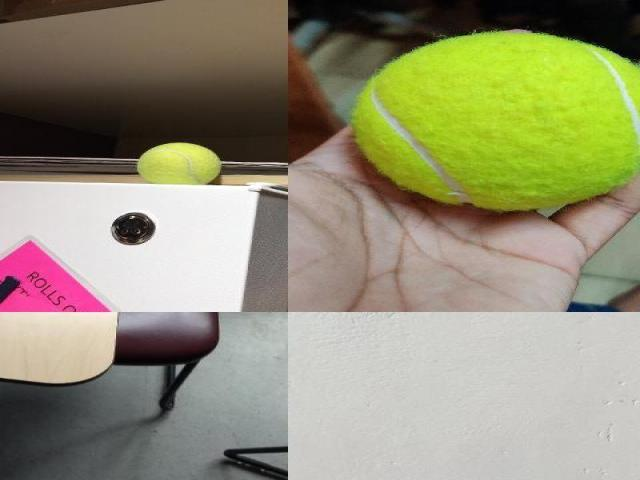tennis-ball: (352, 33, 639, 212), (136, 142, 222, 183)
